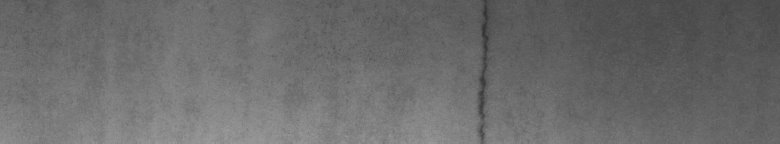hd: (472, 4, 493, 136)
